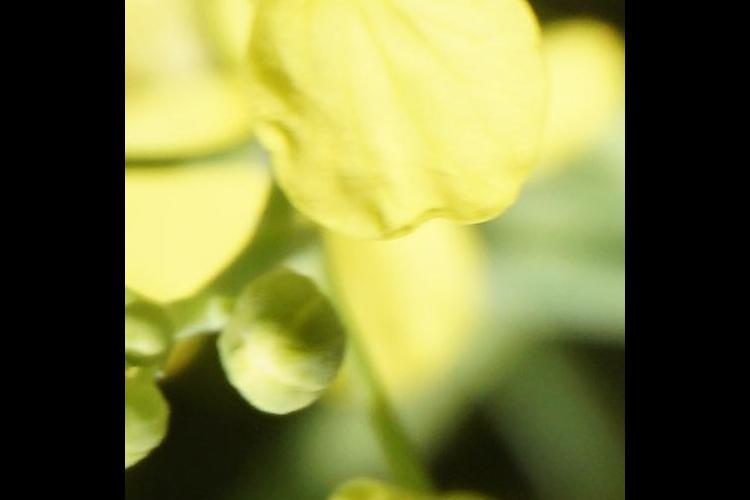bud: (234, 258, 349, 450), (129, 371, 173, 468)
yellow: (181, 1, 618, 256), (327, 446, 623, 500)
